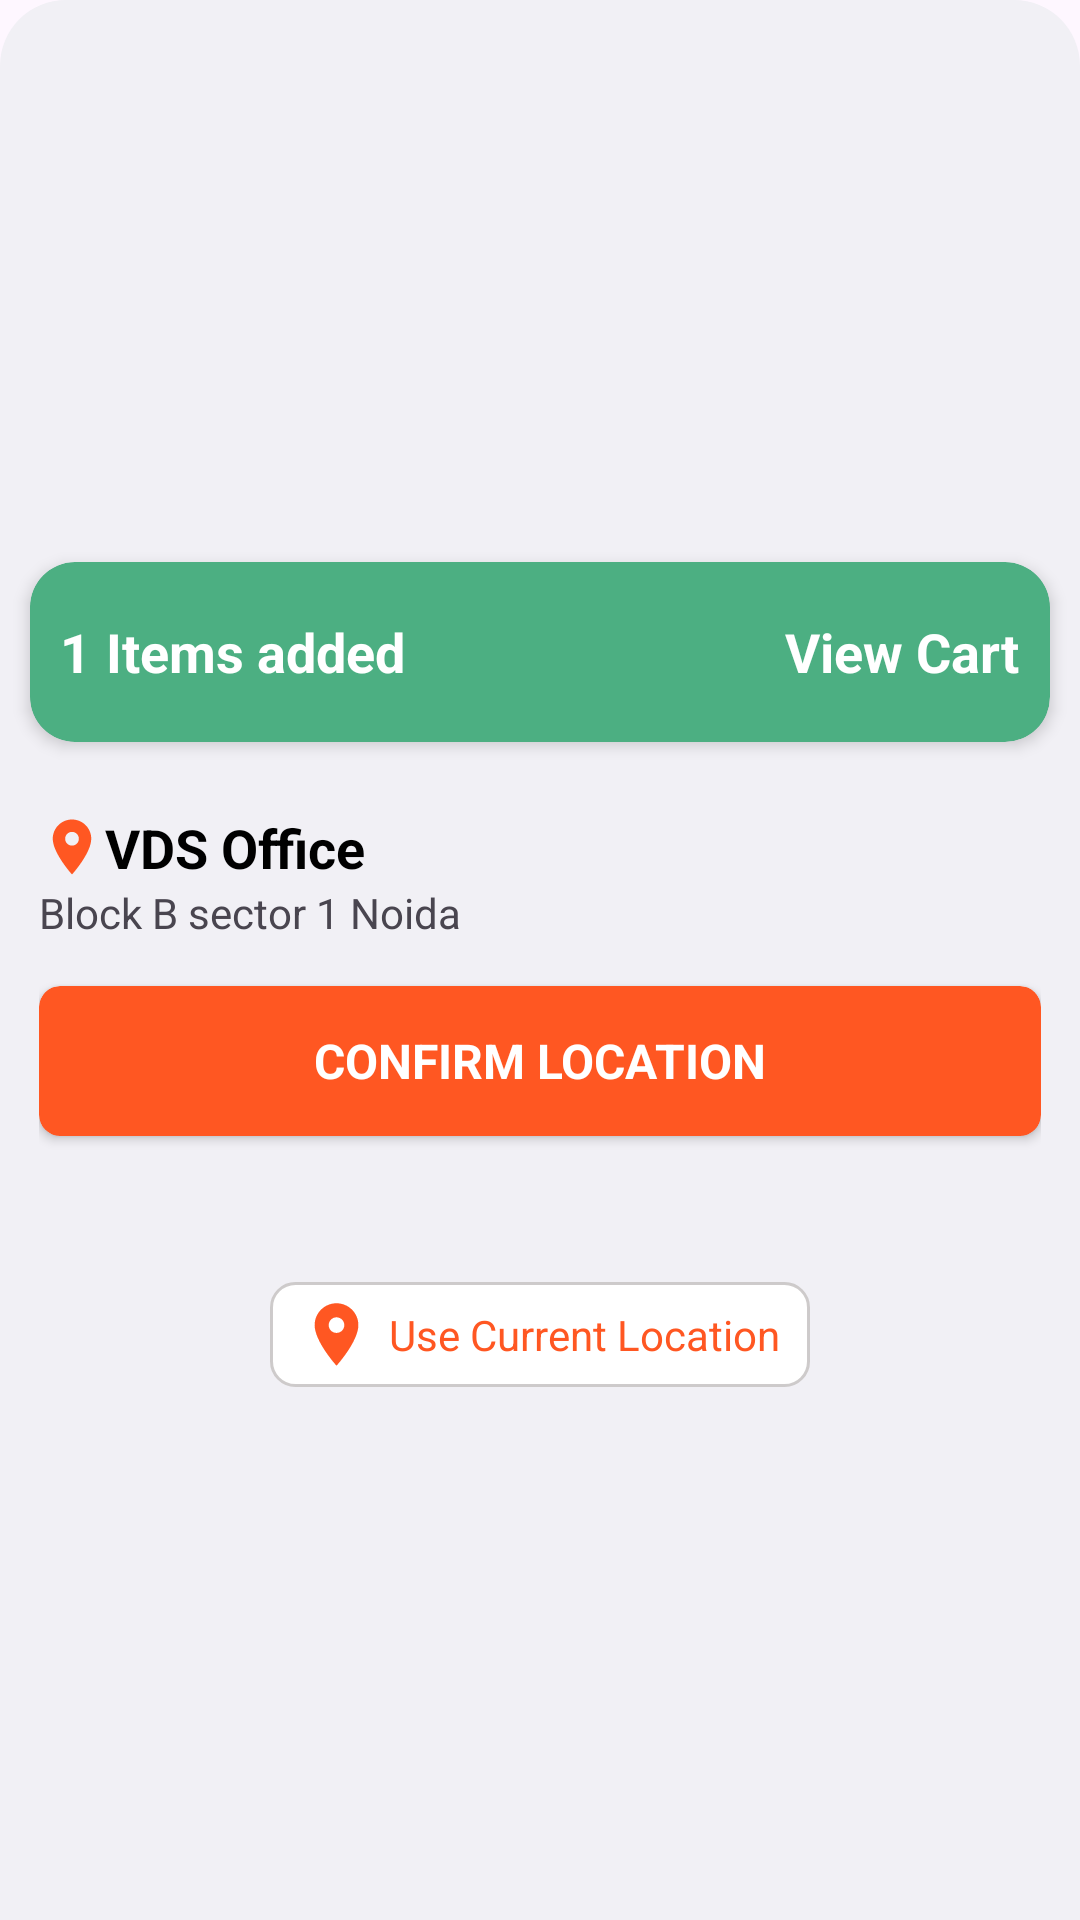

Icon bounding boxes for this 1080 × 1920 phone screenshot, format (x1, y1, x2, y2):
location on: (52, 819, 92, 874), (314, 1303, 359, 1366)
